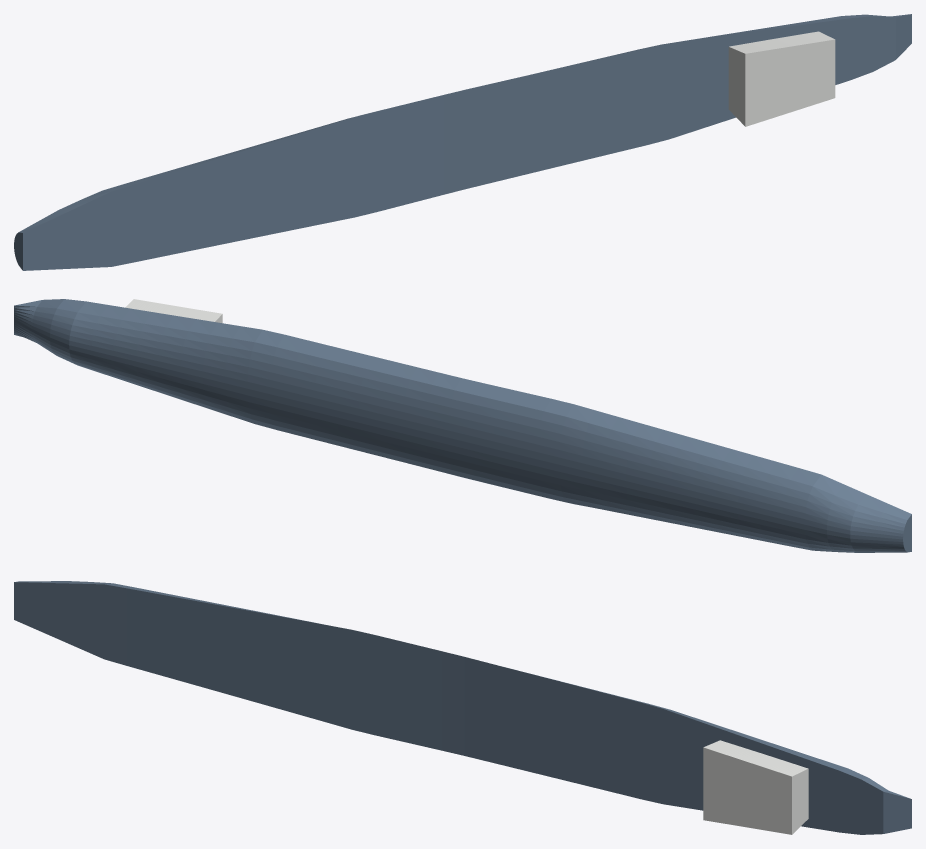
File: loft-dragon-boat-slender.glb
3 views of the same model, one above another, from view 1: azimuth 30°, elevation 25°; view 2: azimuth 150°, elevation 25°; view 3: azimuth 330°, elevation 25° (orthographic).
Visible parts, largest first — view 1: loft-dragon-boat-slender; view 2: loft-dragon-boat-slender; view 3: loft-dragon-boat-slender.
Boxes of the visible parts, <box> form: loft-dragon-boat-slender: <box>14,14,911,270</box>; loft-dragon-boat-slender: <box>14,299,911,552</box>; loft-dragon-boat-slender: <box>14,581,911,834</box>.
Bounding box in the file's own units: 1.78 × 0.1916 × 0.1162.
